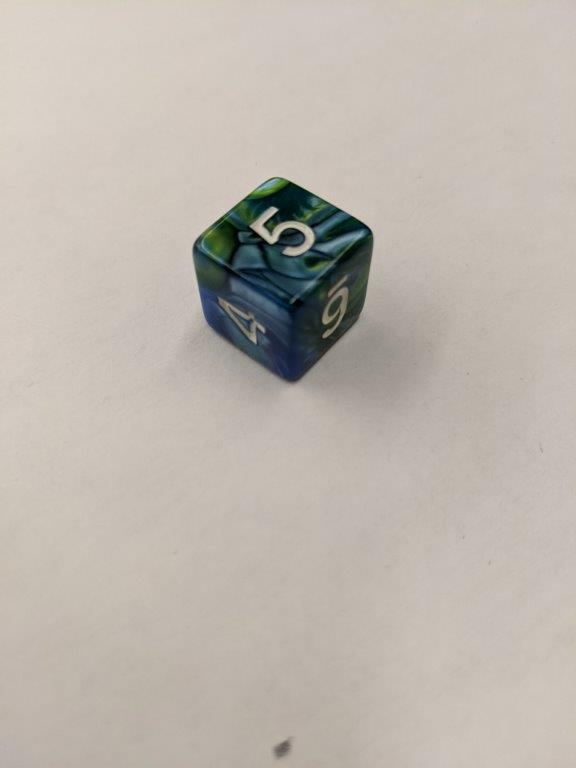d6-5: (191, 175, 376, 380)
